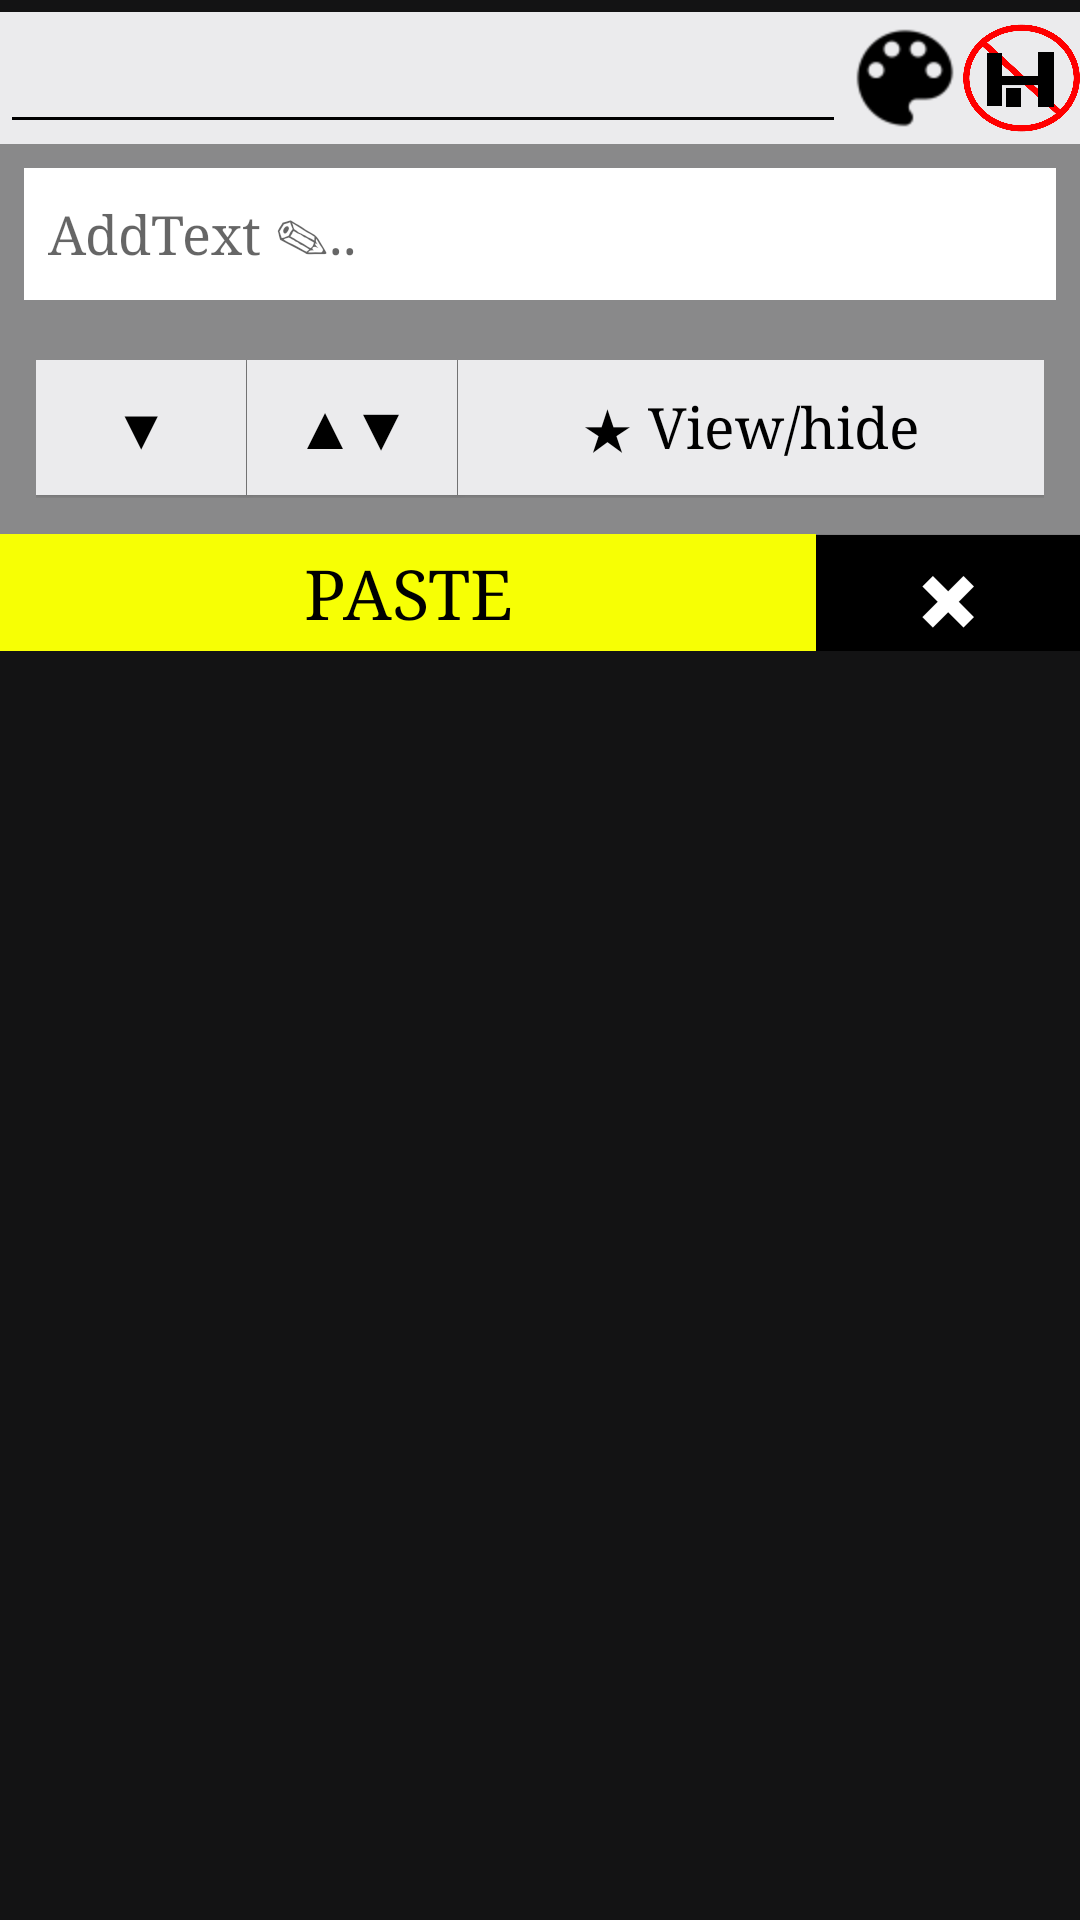

Point at icon controls on the screen. Image size 1080 x 1920, points as [x,y].
nosave: [1021,78]
